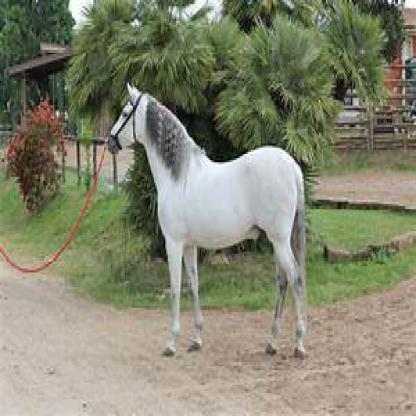horse: (107, 83, 309, 360)
